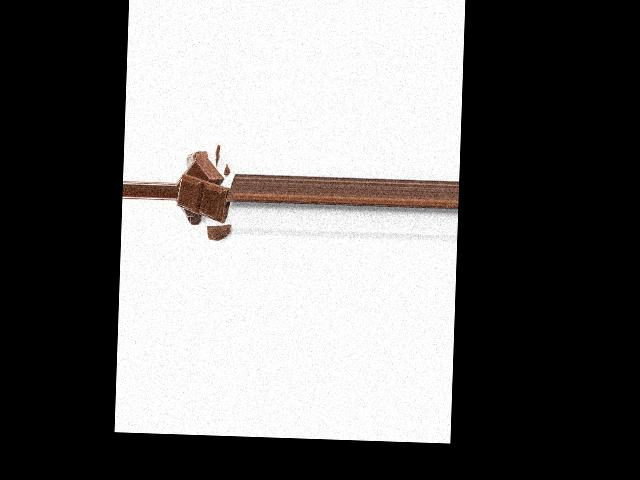chocolate: (178, 173, 229, 221)
